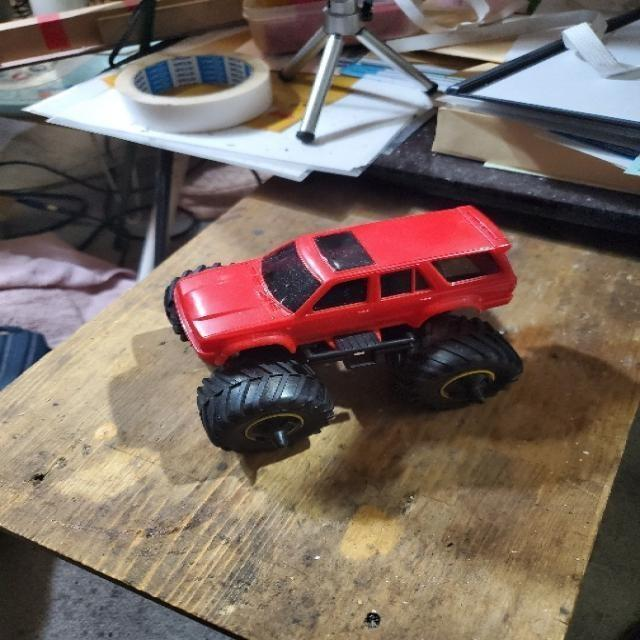Car: (142, 169, 574, 480)
